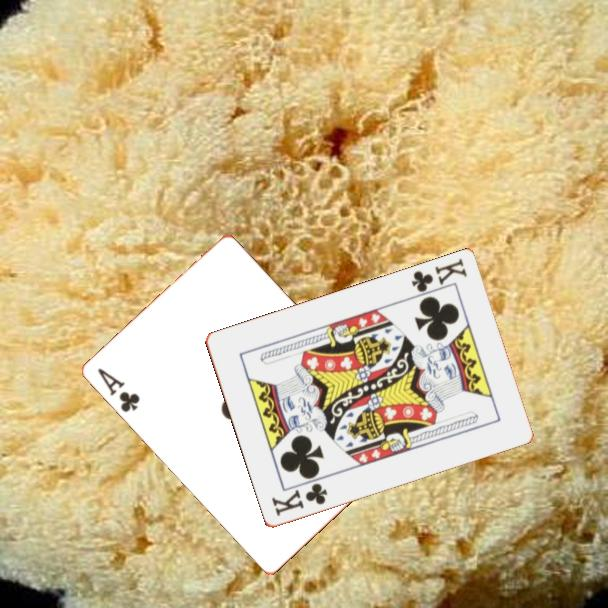c01: (94, 365, 143, 415)
c13: (407, 255, 470, 296), (268, 480, 330, 519)
